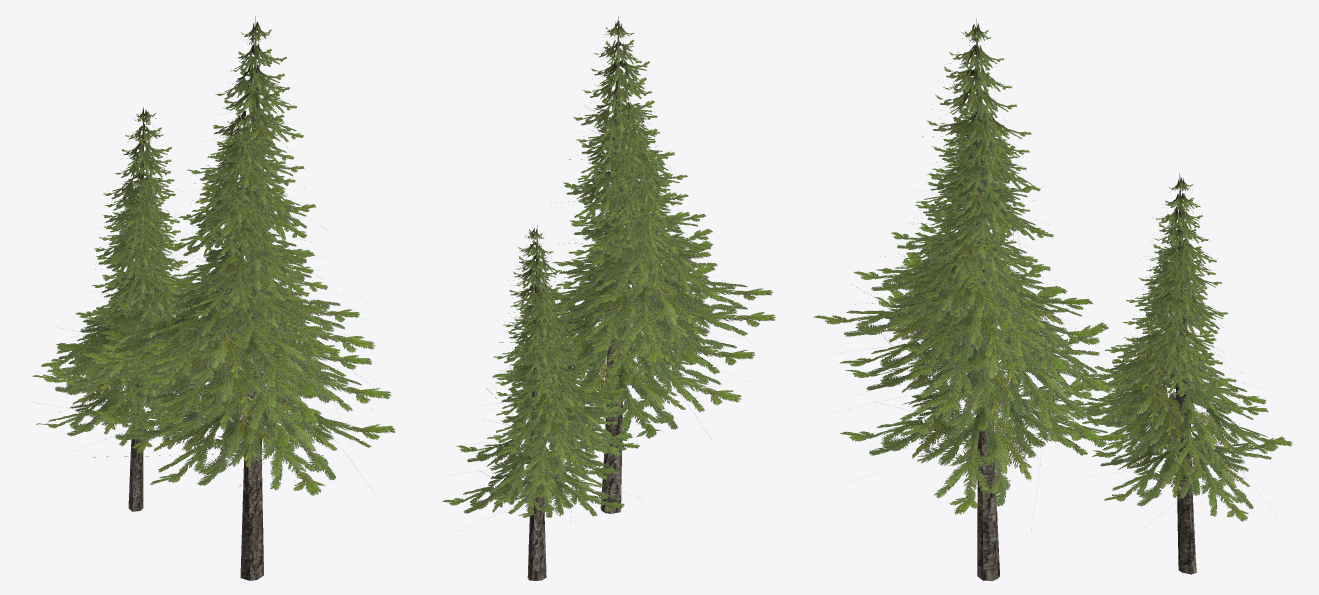
Rendered from pinheiro.gltf.
The picture shows the model from 3 angles, left to right: view 1: azimuth 30°, elevation 25°; view 2: azimuth 150°, elevation 25°; view 3: azimuth 270°, elevation 25°; orthographic projection. The views are drawn at different scales.
Visible parts, largest first — view 1: pinheiro; view 2: pinheiro; view 3: pinheiro.
Boxes of the visible parts, bbox=[...] form: pinheiro: bbox=[32, 16, 395, 580]; pinheiro: bbox=[442, 15, 775, 580]; pinheiro: bbox=[813, 19, 1292, 580].
Size of the model in its own units: 7.82 by 14 by 11.17.
1 material, 1 textured.
